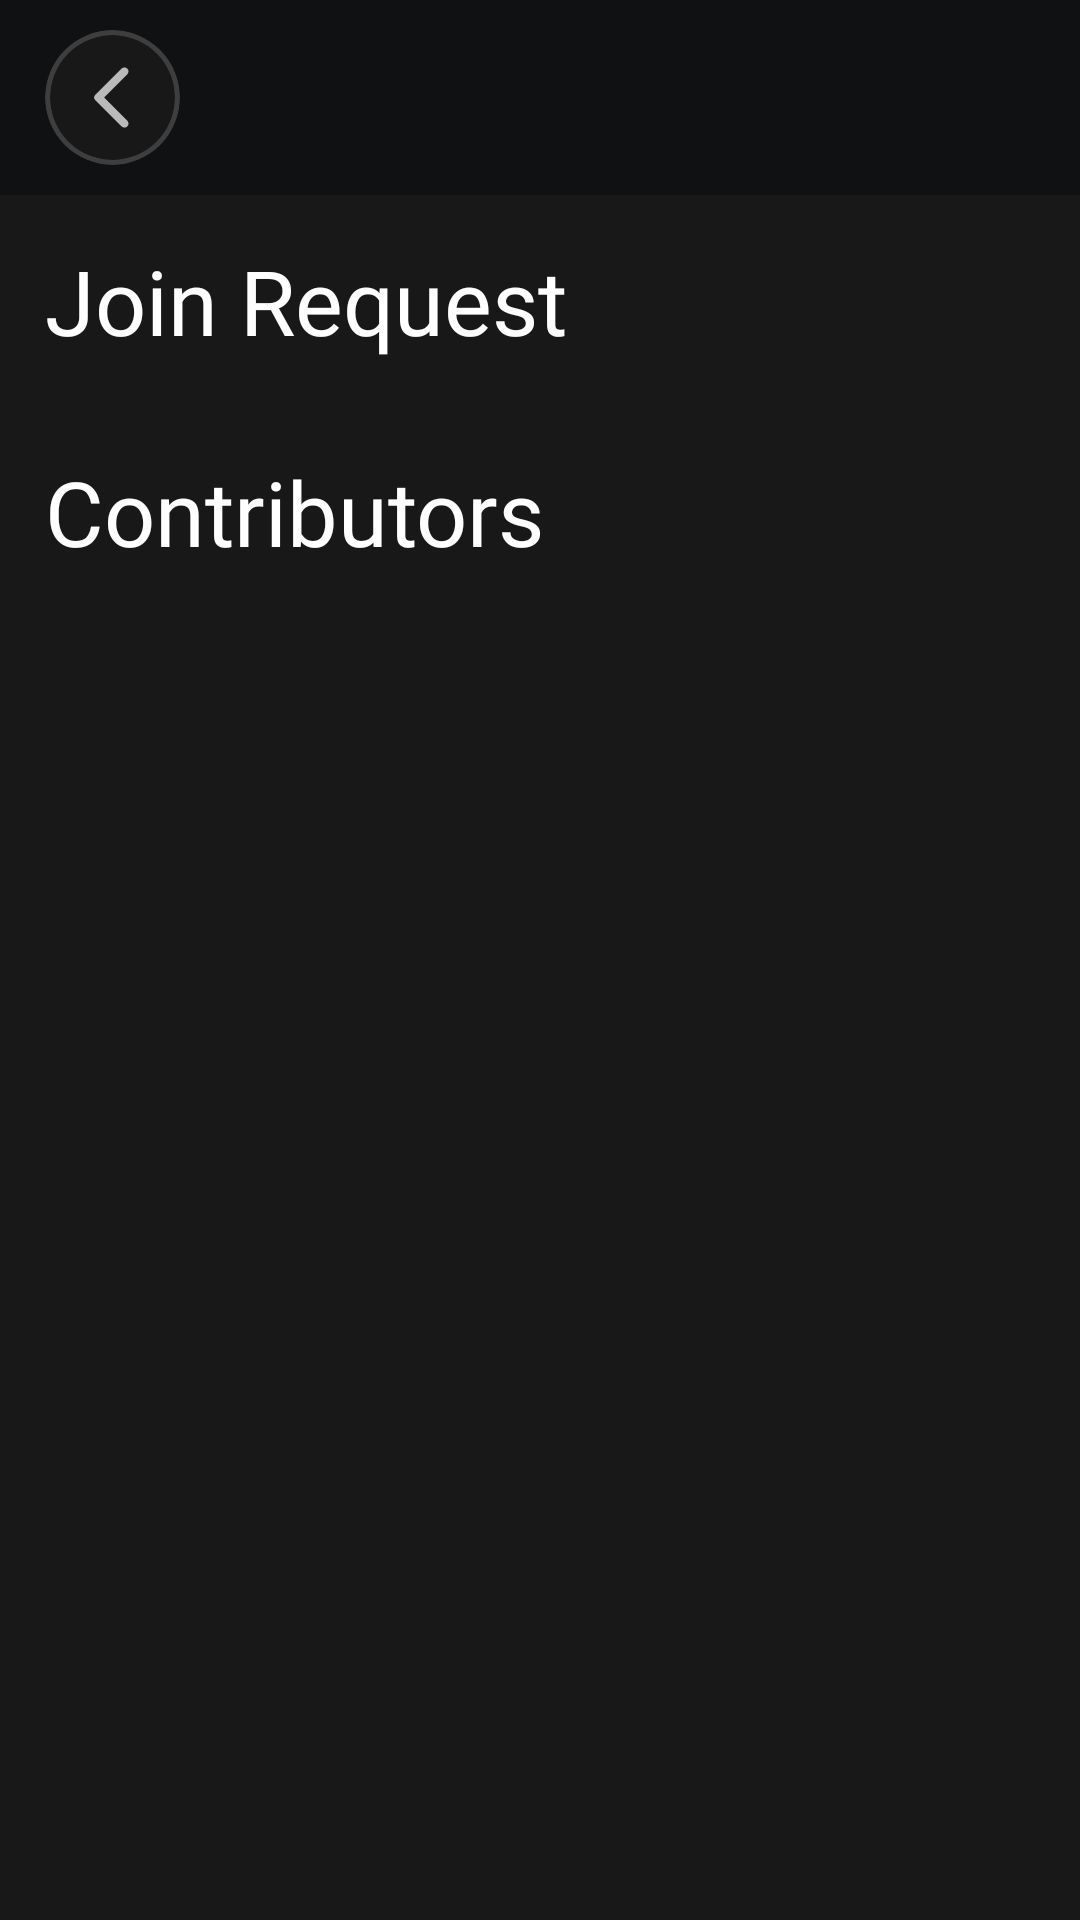

Icon click points for this 1080w x 1920h phone screenshot, format point (x, y):
back: point (111, 97)
